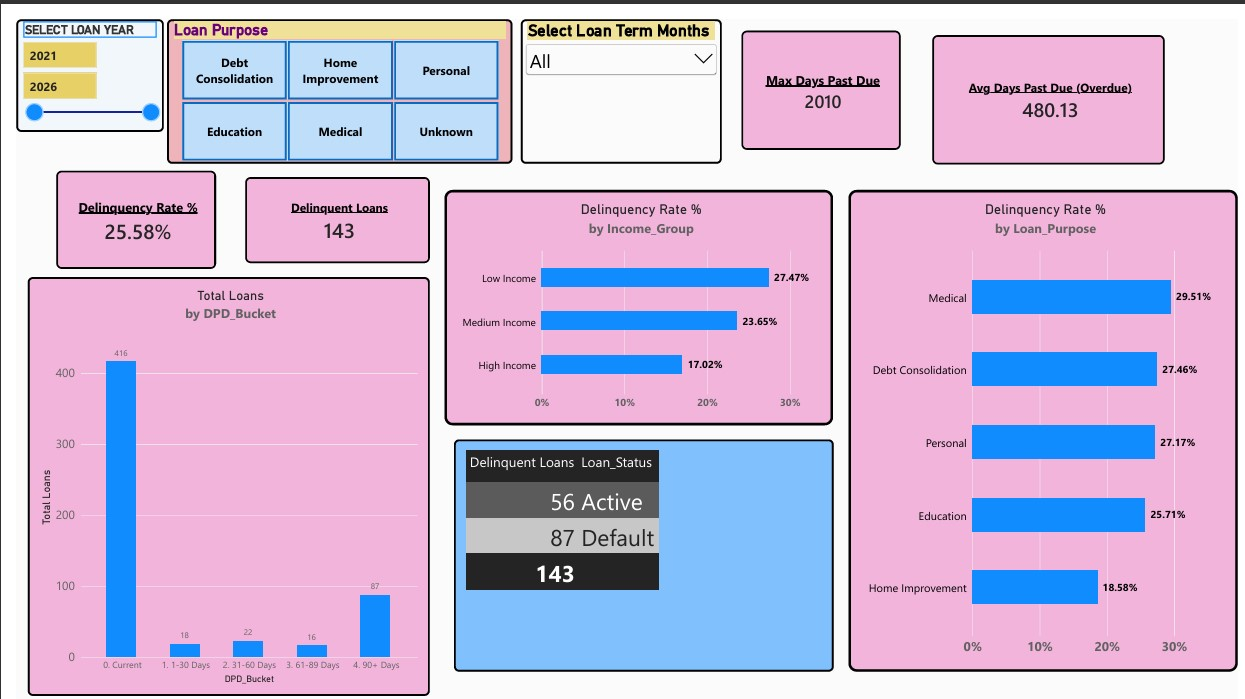

This screenshot's page, from the dashboard's own definition file:
{"tool":"powerbi","page":{"name":"Delinquency and Overdue","canvas":[1920,1080],"ordinal":4},"visuals":[{"type":"slicer","fields":{"Values":["LDR.Loan_Year"]},"box":[0,0,232,177],"z":0},{"type":"slicer","fields":{"Values":["LDR.Loan_Purpose"]},"box":[237.1,0,542.9,227.1],"z":1000},{"type":"slicer","fields":{"Values":["LDR.Loan_Term_Months"]},"box":[792.9,0,315.7,227.1],"z":2000},{"type":"cardVisual","fields":{"Data":["LDR.Delinquency Rate %"]},"box":[62.5,237.5,251.4,154.3],"z":3001},{"type":"cardVisual","fields":{"Data":["LDR.Delinquent Loans"]},"box":[360,247.5,290,135],"z":3002},{"type":"cardVisual","fields":{"Data":["LDR.Avg Days Past Due (Overdue)"]},"box":[1440,25,365,202.5],"z":3003},{"type":"cardVisual","fields":{"Data":["LDR.Max Days Past Due"]},"box":[1140,17.5,250,187.5],"z":3004},{"type":"columnChart","fields":{"Category":["LDR.DPD_Bucket"],"Y":["LDR.Total Loans"]},"box":[17.5,405,632.5,657.5],"z":3005},{"type":"clusteredBarChart","fields":{"Category":["LDR.Income_Group"],"Y":["LDR.Delinquency Rate %"]},"box":[672.5,267.5,611.7,370],"z":3006},{"type":"clusteredBarChart","fields":{"Category":["LDR.Loan_Purpose"],"Y":["LDR.Delinquency Rate %"]},"box":[1307.5,267.5,612.5,757.5],"z":3007},{"type":"tableEx","fields":{"Values":["LDR.Delinquent Loans","LDR.Loan_Status"]},"box":[687.5,660,597.5,365],"z":3008}]}

Visuals, with their boxes in screenshot pixels (x1, y1, x2, y2), scaled from the page's 1920x1080 canvas onto the 1245x699 screenshot:
slicer - LDR.Loan_Year: 0,0,150,115
slicer - LDR.Loan_Purpose: 154,0,506,147
slicer - LDR.Loan_Term_Months: 514,0,719,147
cardVisual - LDR.Delinquency Rate %: 41,154,204,254
cardVisual - LDR.Delinquent Loans: 233,160,421,248
cardVisual - LDR.Avg Days Past Due (Overdue): 934,16,1170,147
cardVisual - LDR.Max Days Past Due: 739,11,901,133
columnChart - LDR.DPD_Bucket x LDR.Total Loans: 11,262,421,688
clusteredBarChart - LDR.Income_Group x LDR.Delinquency Rate %: 436,173,833,413
clusteredBarChart - LDR.Loan_Purpose x LDR.Delinquency Rate %: 848,173,1244,663
tableEx - LDR.Delinquent Loans x LDR.Loan_Status: 446,427,833,663
